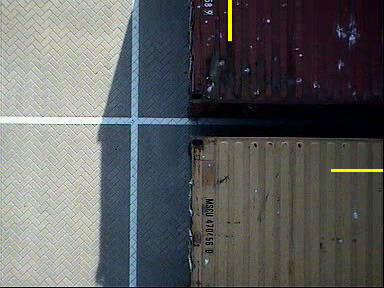groundmarker_2: (145, 188, 205, 229), (144, 247, 204, 288), (148, 78, 207, 119)
